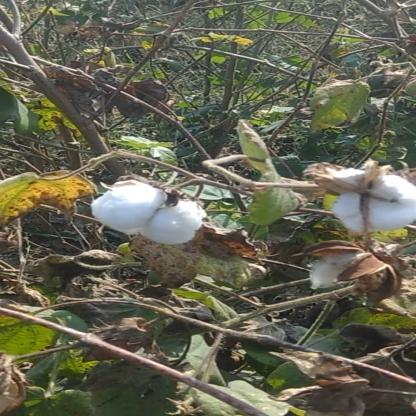cotton_ready: (30, 163, 218, 247)
